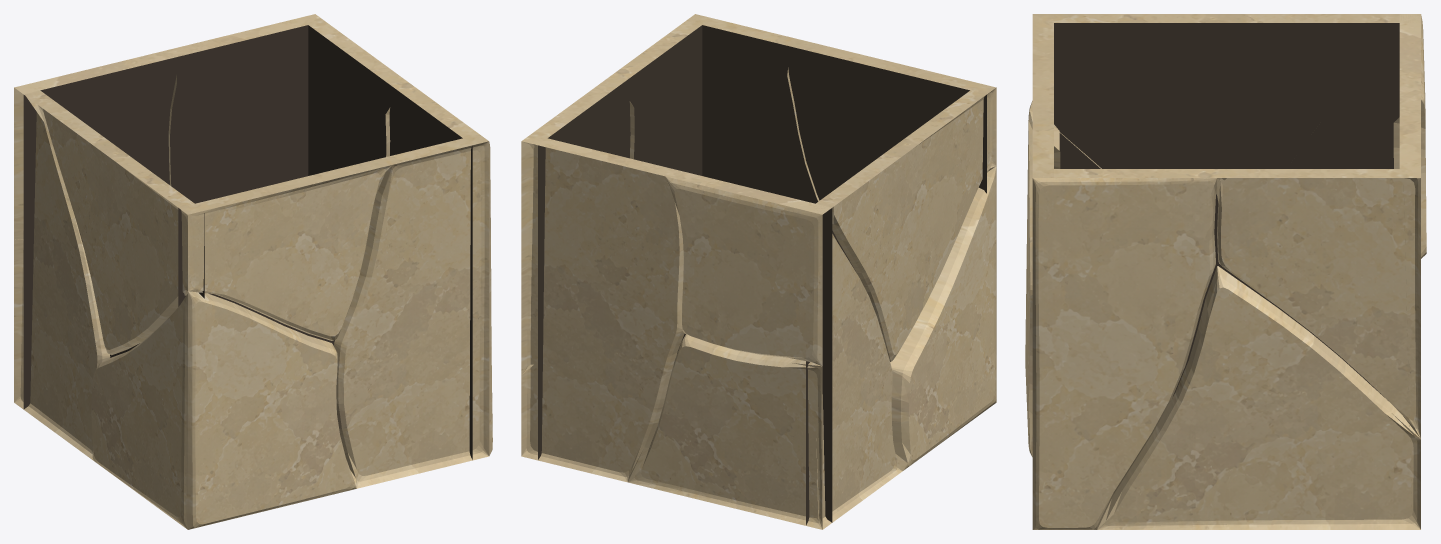
The model's file is ground_square_island_06.glb.
3 views of the same model, side by side, from view 1: azimuth 30°, elevation 25°; view 2: azimuth 150°, elevation 25°; view 3: azimuth 270°, elevation 25° (orthographic). The views are drawn at different scales.
Visible parts, largest first — view 1: GroundSquareIsland06_Body; view 2: GroundSquareIsland06_Body; view 3: GroundSquareIsland06_Body.
Part boxes in pixels (x1=…): GroundSquareIsland06_Body: x1=14, y1=14, x2=492, y2=529; GroundSquareIsland06_Body: x1=521, y1=14, x2=996, y2=529; GroundSquareIsland06_Body: x1=1025, y1=14, x2=1426, y2=529.
Size of the model in its own units: 1.04 by 1 by 1.03.
14 materials, 13 textured.
